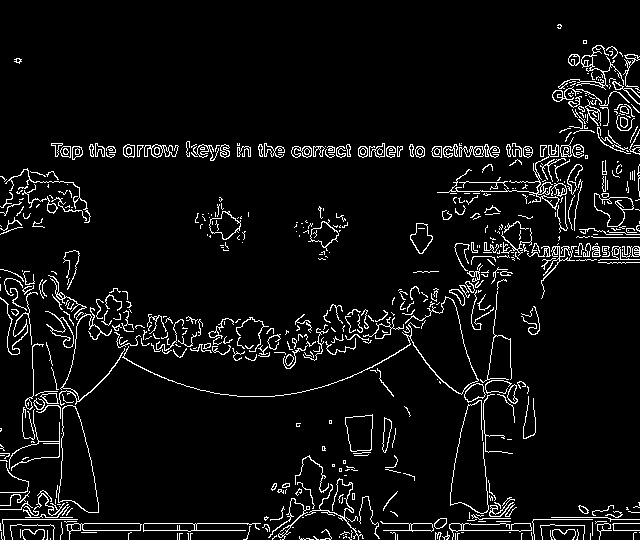down: (401, 218, 443, 259)
left: (493, 217, 540, 257)
right: (300, 210, 347, 256), (200, 203, 249, 247)
